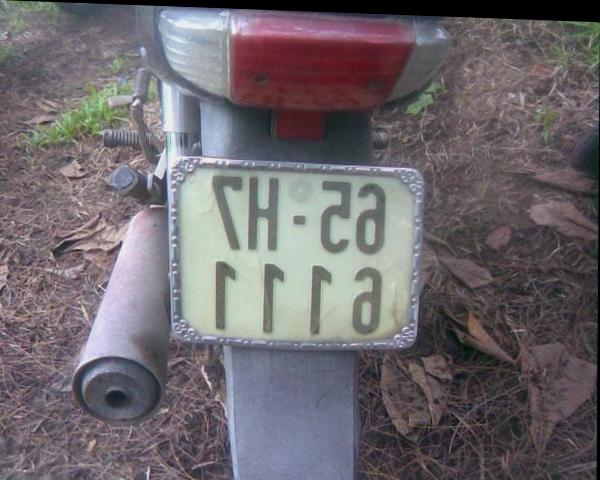License_Plate: (171, 155, 431, 362)
